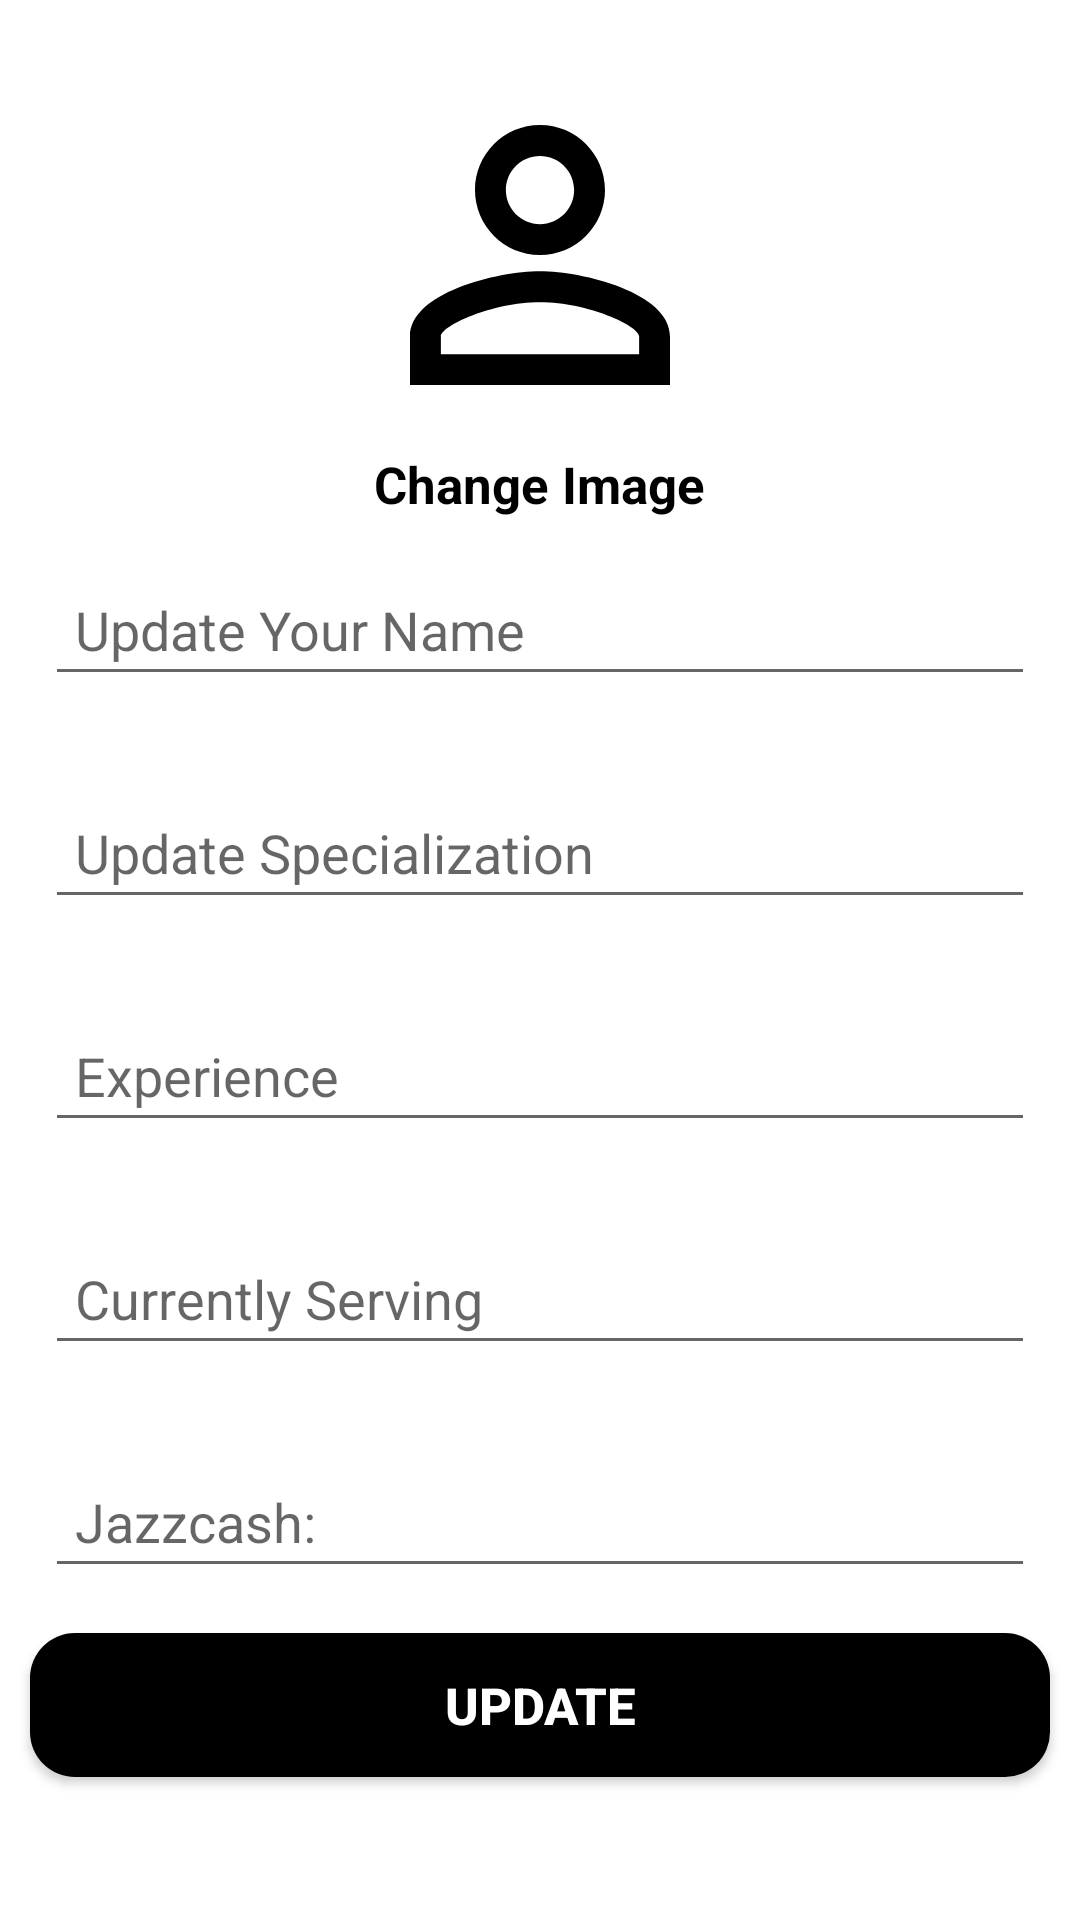

Icons on this 1080w x 1920h Android screen, each with the point to tap as [x,y]:
user: [540,255]
